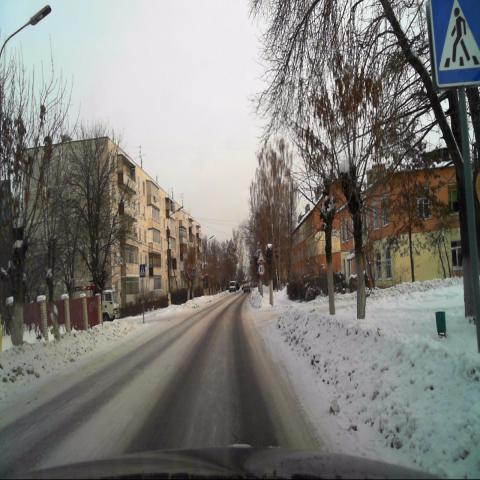1_17: (257, 251, 265, 263)
3_24: (258, 265, 265, 275)
5_19_1: (426, 0, 480, 91), (139, 264, 146, 277)
